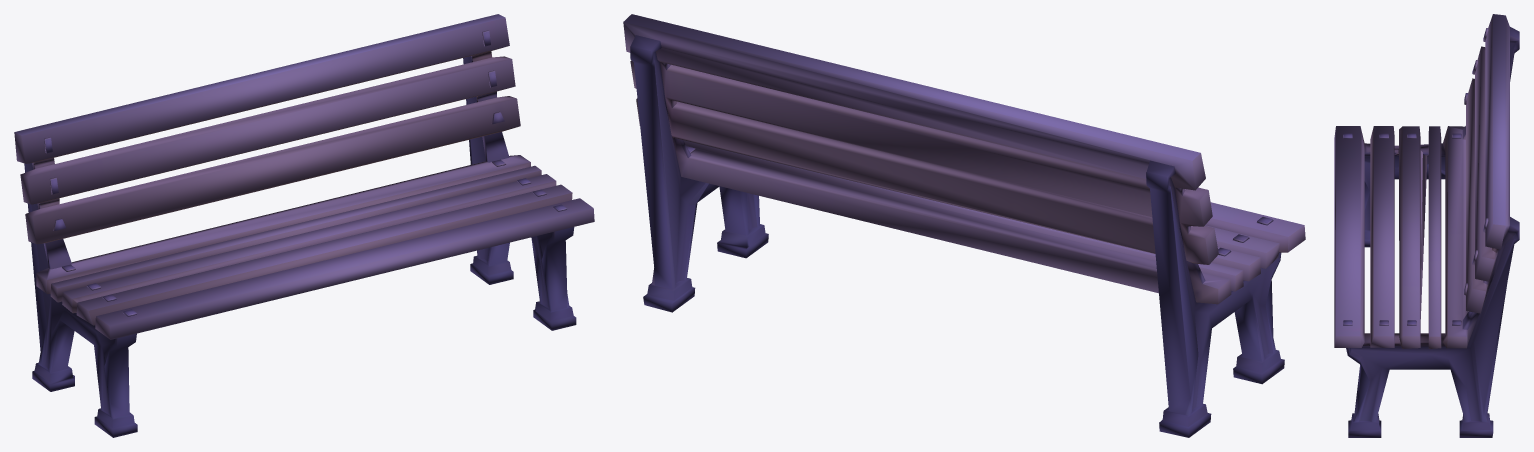
File: model.progressive.glb
3 views of the same model, side by side, from view 1: azimuth 30°, elevation 25°; view 2: azimuth 150°, elevation 25°; view 3: azimuth 270°, elevation 25° (orthographic). The views are drawn at different scales.
Parts seen in each view (by area): view 1: CityBench2; view 2: CityBench2; view 3: CityBench2.
Boxes of the visible parts, x1,y1,x2,y2 form: CityBench2: [14, 14, 594, 437]; CityBench2: [623, 14, 1305, 437]; CityBench2: [1334, 14, 1519, 437].
Size of the model in its own units: 1.9 by 0.9197 by 0.7069.
1 material, 1 textured.
